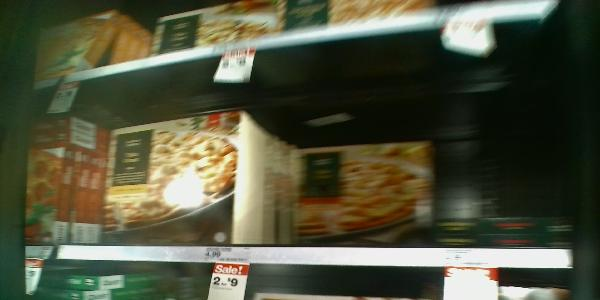pizza: (98, 108, 263, 246), (290, 147, 430, 246)
pizza1: (26, 120, 65, 244), (432, 229, 580, 250), (433, 216, 581, 230)
